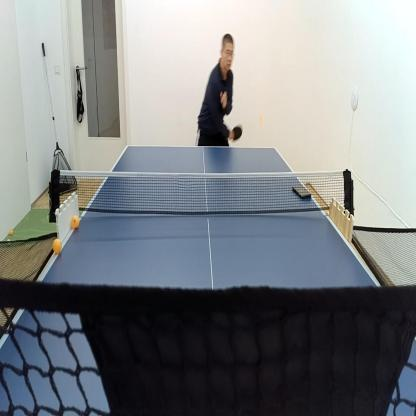Ball: (51, 236, 63, 256), (70, 213, 80, 231), (257, 112, 266, 129), (5, 236, 12, 248), (8, 227, 14, 237)
